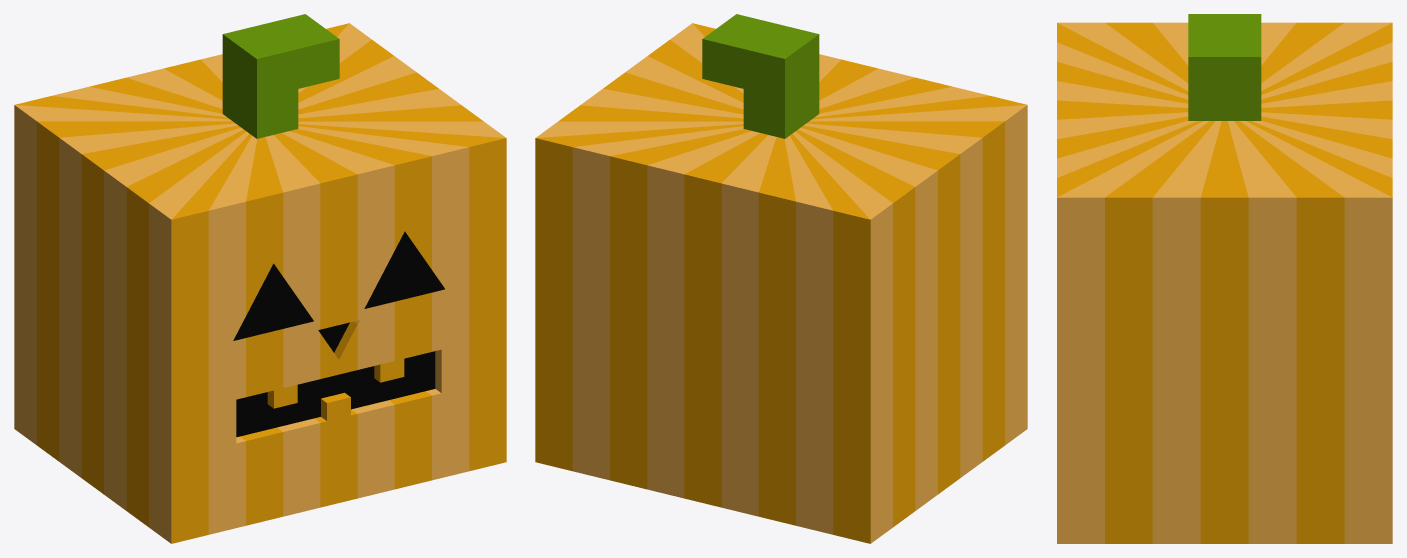
Rendered from Ch_48@Move.FBX.
The picture shows the model from 3 angles, left to right: view 1: azimuth 30°, elevation 25°; view 2: azimuth 150°, elevation 25°; view 3: azimuth 270°, elevation 25°; orthographic projection. The views are drawn at different scales.
Visible parts, largest first — view 1: Ch_48; view 2: Ch_48; view 3: Ch_48.
Boxes of the visible parts, <box> form: Ch_48: <box>14,14,506,543</box>; Ch_48: <box>535,14,1027,543</box>; Ch_48: <box>1057,14,1392,543</box>.
Bounding box in the file's own units: 7.68 × 8.85 × 6.24.
